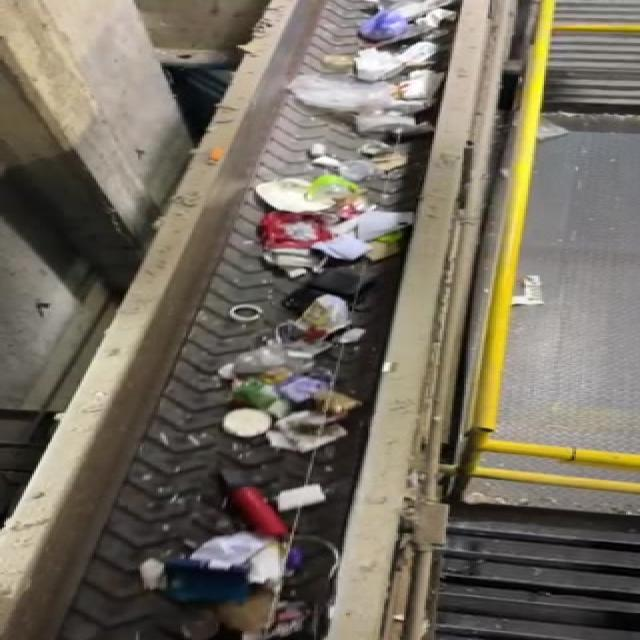pet: (205, 467, 300, 536)
pp: (154, 558, 264, 608)
